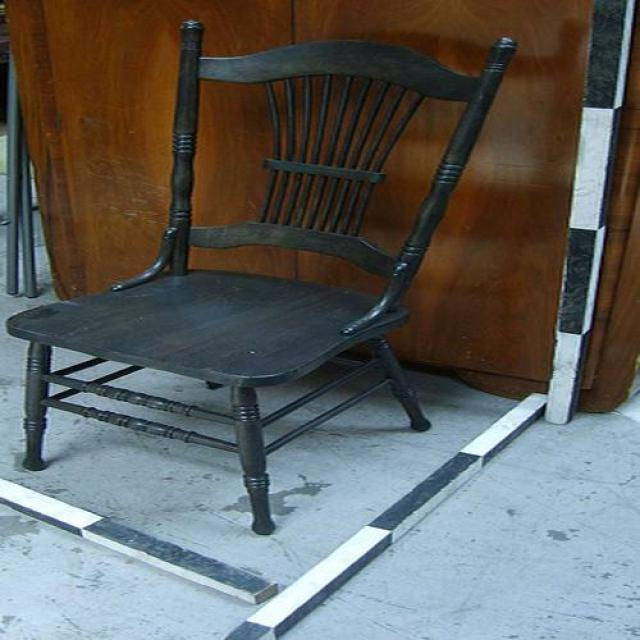chair: (5, 22, 517, 536)
